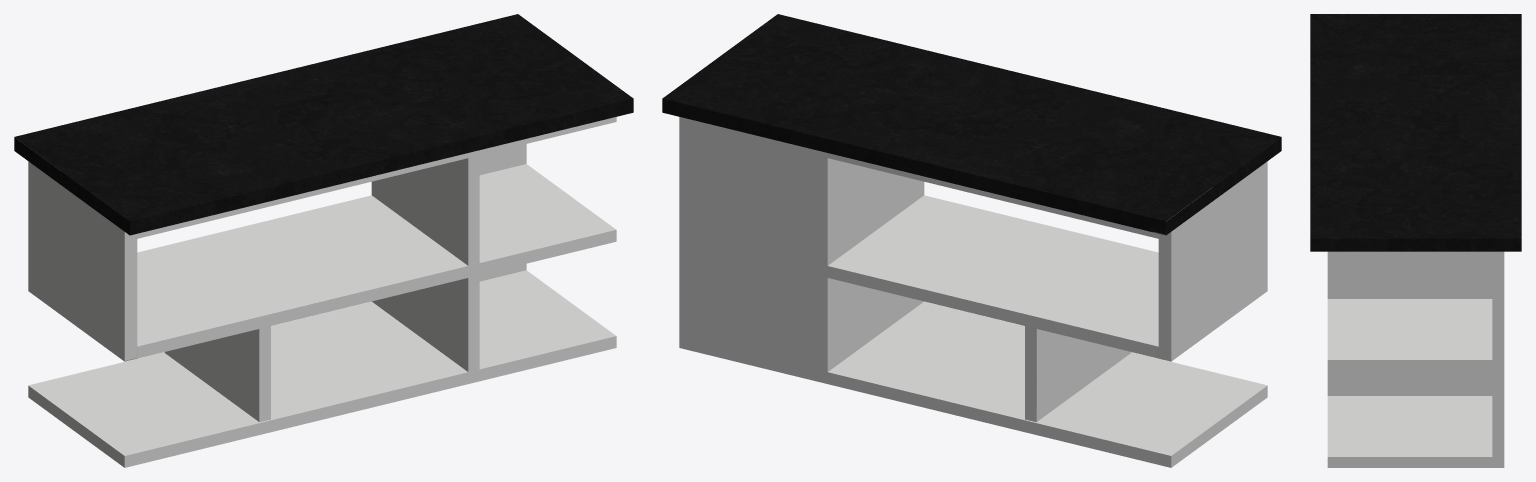
3 views of the same model, side by side, from view 1: azimuth 30°, elevation 25°; view 2: azimuth 150°, elevation 25°; view 3: azimuth 270°, elevation 25° (orthographic). The views are drawn at different scales.
Parts seen in each view (by area): view 1: Marble Shelf 2; view 2: Marble Shelf 2; view 3: Marble Shelf 2.
Part boxes in pixels (x1,y1,x2,y2): Marble Shelf 2: (14, 14, 633, 467); Marble Shelf 2: (662, 14, 1281, 467); Marble Shelf 2: (1310, 14, 1521, 467).
Size of the model in its own units: 1.9 by 0.9182 by 0.7555.
1 material, 1 textured.
